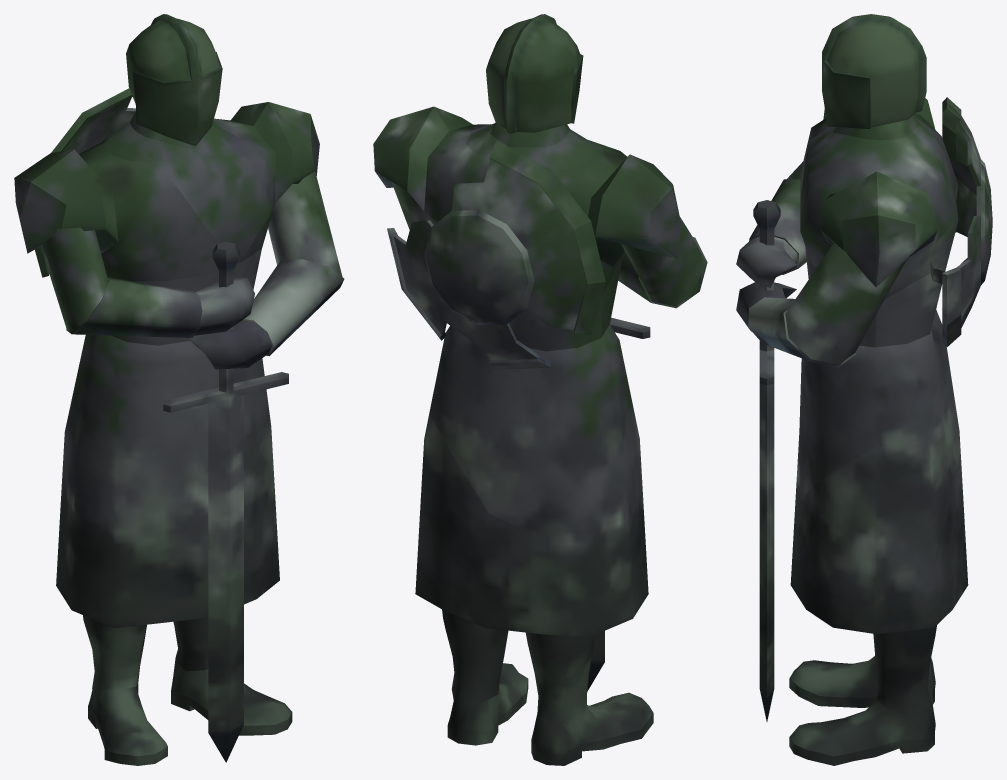
File: SM_KnightV2.fbx
3 views of the same model, side by side, from view 1: azimuth 30°, elevation 25°; view 2: azimuth 150°, elevation 25°; view 3: azimuth 270°, elevation 25° (orthographic).
Parts seen in each view (by area): view 1: SM_KnightV2; view 2: SM_KnightV2; view 3: SM_KnightV2.
Boxes of the visible parts, bbox=[...] form: SM_KnightV2: bbox=[14, 14, 344, 765]; SM_KnightV2: bbox=[373, 14, 707, 765]; SM_KnightV2: bbox=[736, 14, 992, 765].
Bounding box in the file's own units: 266 × 600 × 197.
